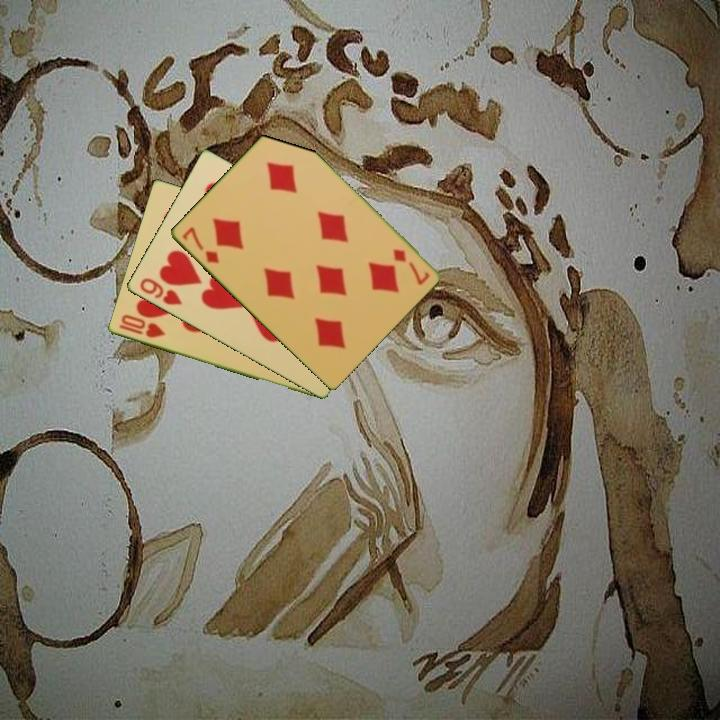10h: (115, 311, 167, 341)
7d: (178, 223, 222, 267), (389, 245, 432, 288)
9h: (136, 274, 184, 308)
